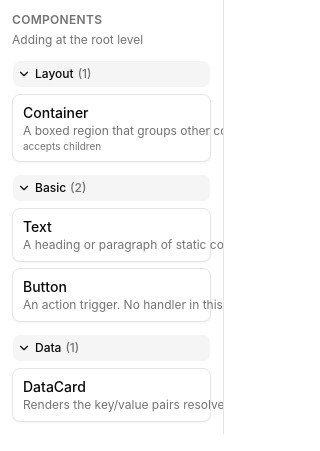
collapsing categories › hides a category’s items when its header is clicked
Click the button with test id "palette-category".
click(112, 74)  # box [12,60,211,88]
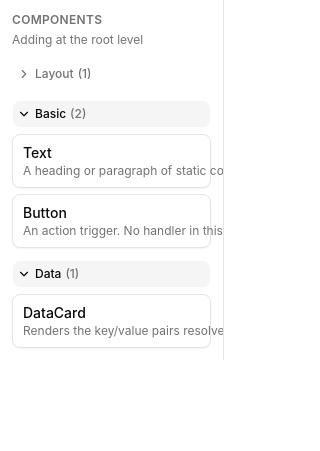
Expected: the number of elements with test id "palette-group-items" is 2, [12,134,211,248]; [12,294,211,348]
Expected: the number of buttons with test id "palette-item" is 3, [12,134,211,188]; [12,194,211,248]; [12,294,211,348]
Expected: the button with test id "palette-category" is collapsed, [12,60,211,88]
